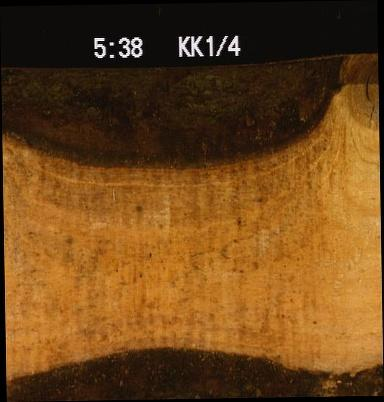sound_knot: (347, 61, 378, 128)
wave: (1, 53, 378, 168), (5, 344, 382, 398)
